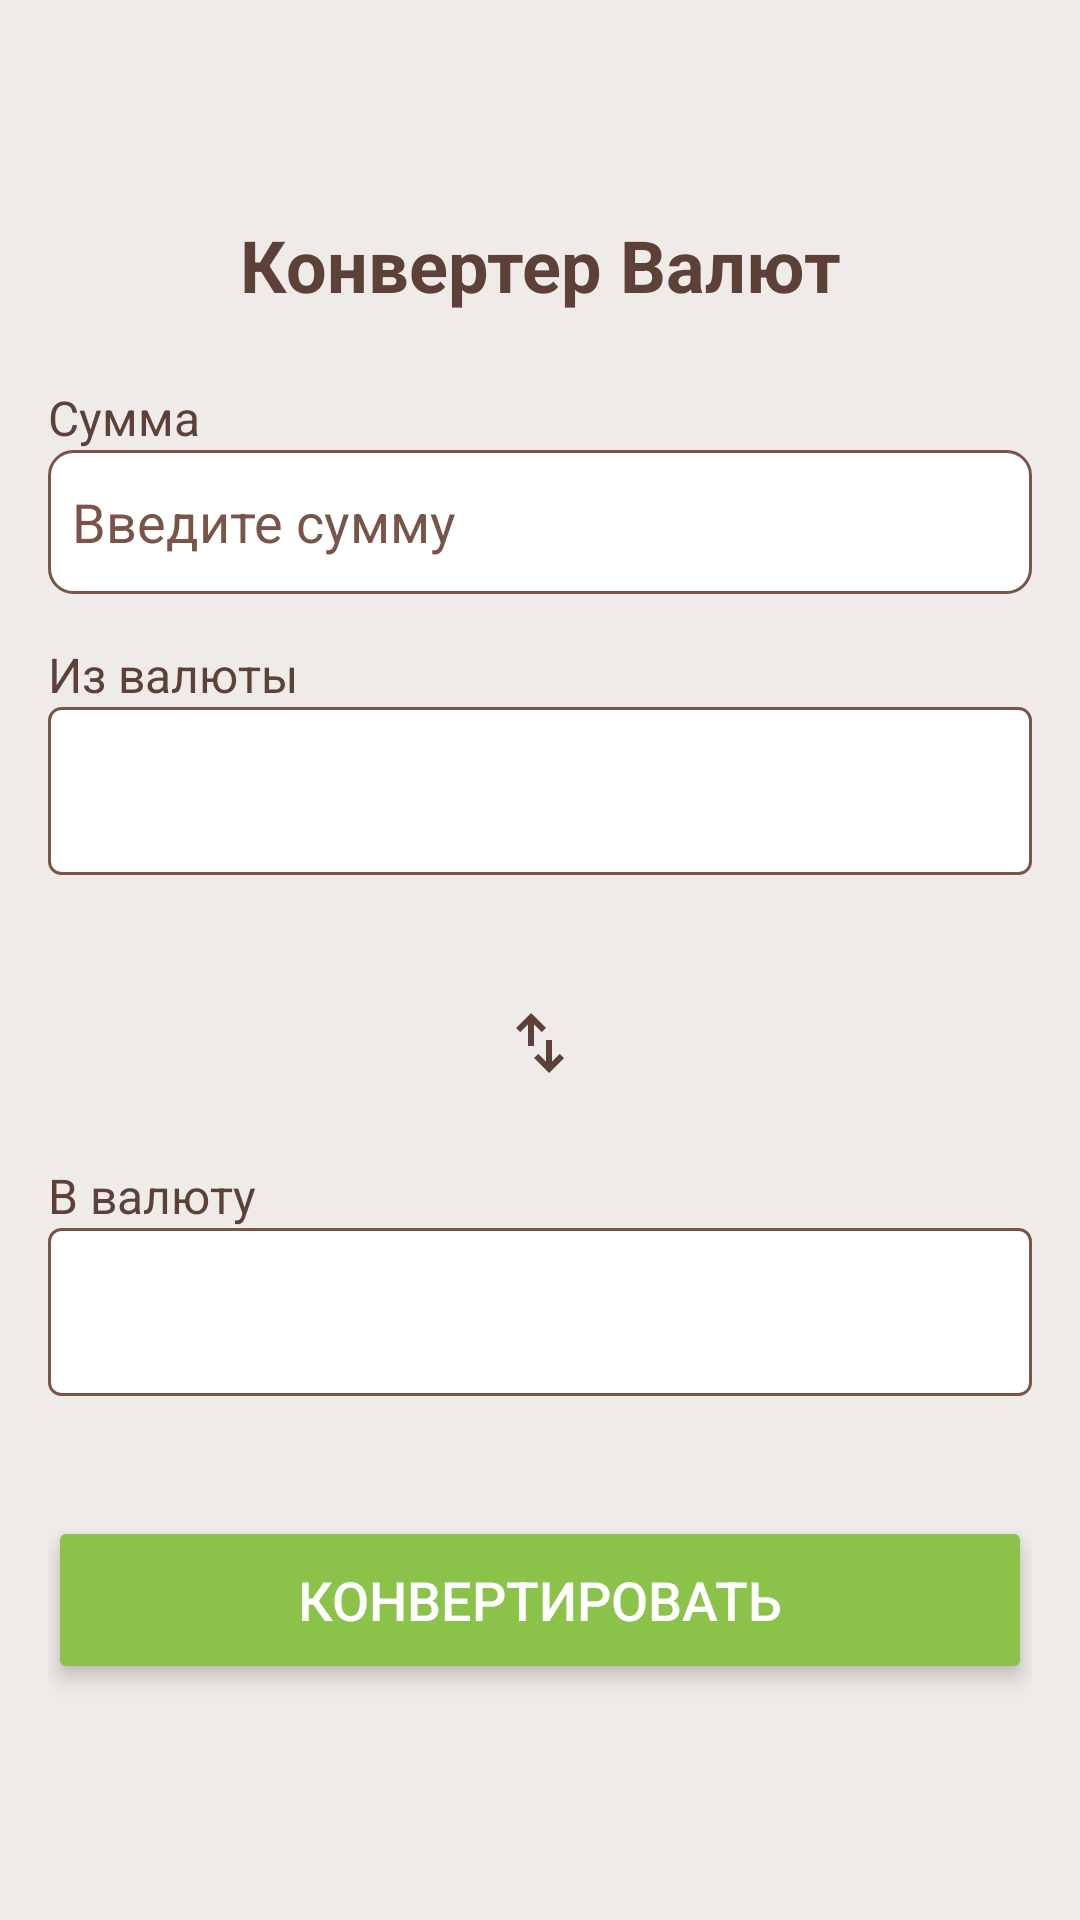

Named icons in this screenshot (1080w x 1920h) and their bounding boxes, [x1,y1,x2,y2]:
Поменять валюты местами: [516,1013,564,1073]
